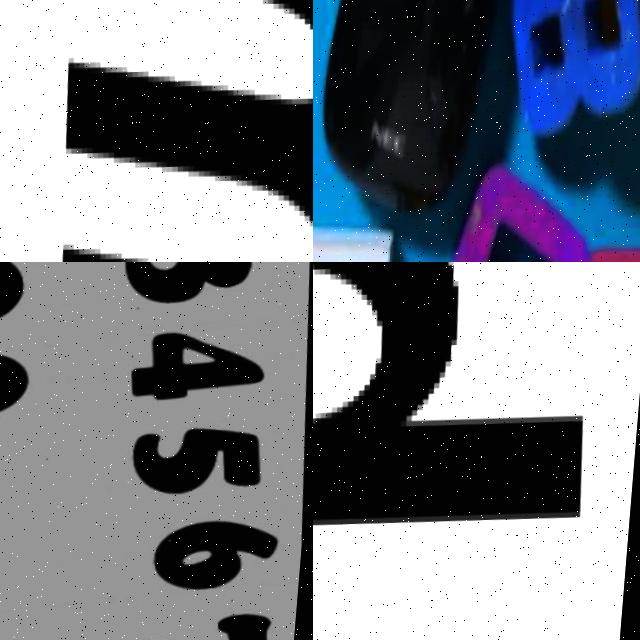0: (0, 336, 63, 428)
3: (114, 262, 275, 310)
4: (115, 308, 311, 411)
5: (125, 404, 294, 501)
6: (152, 503, 310, 595)
7: (125, 594, 303, 640)
9: (0, 262, 47, 337)
B: (492, 0, 640, 135)
D: (313, 262, 622, 545)
G: (434, 164, 616, 262)
H: (313, 192, 419, 262)
M: (36, 0, 313, 262)
